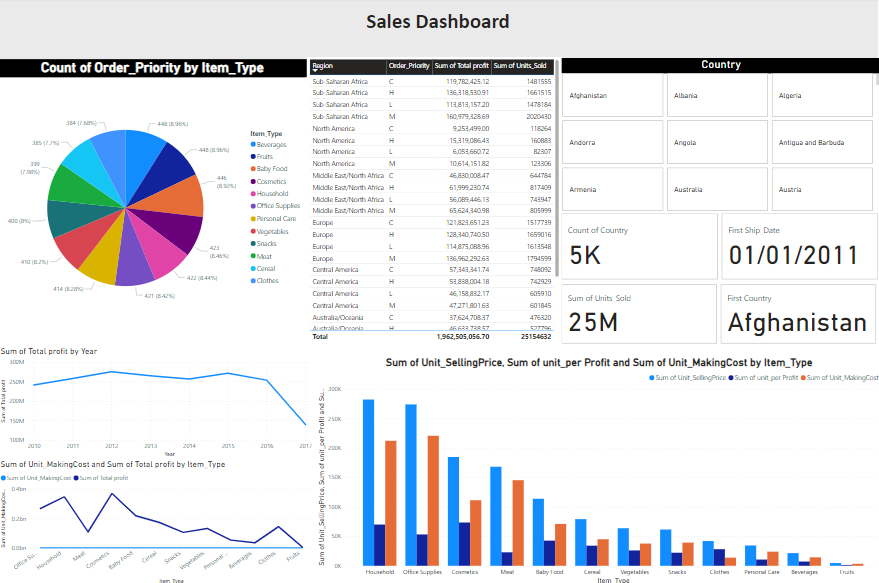

The dashboard page shown, as its layout file describes it:
{"tool":"powerbi","page":{"name":"Page 1","canvas":[1800,1200],"ordinal":0},"visuals":[{"type":"lineChart","fields":{"Category":["Sales_Data.Year"],"Y":["Sum(Sales_Data.Total profit)"]},"box":[0,710,643.3,230],"z":0},{"type":"cardVisual","fields":{"Data":["Sum(Sales_Data.Units_Sold)","Min(Sales_Data.Country)"]},"box":[1140,580,650,130],"z":1000},{"type":"cardVisual","fields":{"Data":["CountNonNull(Sales_Data.Country)","Min(Sales_Data.Ship_Date)"]},"box":[1141,435.3,654.9,144.4],"z":2000},{"type":"pieChart","fields":{"Y":["CountNonNull(Sales_Data.Order_Priority)"],"Category":["Sales_Data.Item_Type"]},"box":[0,126,628,574],"z":3000},{"type":"textbox","box":[0,0,1790,126.7],"z":4000},{"type":"advancedSlicerVisual","fields":{"Values":["Sales_Data.Country"]},"box":[1144,124,656,316],"z":5000},{"type":"lineChart","fields":{"Category":["Sales_Data.Item_Type"],"Y":["Sum(Sales_Data.Unit_MakingCost)","Sum(Sales_Data.Total profit)"]},"box":[0,940,643.3,260],"z":7000},{"type":"clusteredColumnChart","fields":{"Category":["Sales_Data.Item_Type"],"Y":["Sum(Sales_Data.Unit_SellingPrice)","Sum(Sales_Data.unit_per Profit)","Sum(Sales_Data.Unit_MakingCost)"]},"box":[644,730,1156,470],"z":8000},{"type":"tableEx","fields":{"Values":["Sales_Data.Region","Sales_Data.Order_Priority","Sum(Sales_Data.Total profit)","Sum(Sales_Data.Units_Sold)"]},"box":[628,122,518,584],"z":9000}]}

Visuals, with their boxes in screenshot pixels (x1, y1, x2, y2), scaled from the page's 1800x1200 canvas onto the 879x583 screenshot:
lineChart - Sales_Data.Year x Sum(Sales_Data.Total profit): 0:345:314:457
cardVisual - Sum(Sales_Data.Units_Sold) x Min(Sales_Data.Country): 557:282:874:345
cardVisual - CountNonNull(Sales_Data.Country) x Min(Sales_Data.Ship_Date): 557:211:877:282
pieChart - CountNonNull(Sales_Data.Order_Priority) x Sales_Data.Item_Type: 0:61:307:340
textbox: 0:0:874:62
advancedSlicerVisual - Sales_Data.Country: 559:60:878:214
lineChart - Sales_Data.Item_Type x Sum(Sales_Data.Unit_MakingCost): 0:457:314:582
clusteredColumnChart - Sales_Data.Item_Type x Sum(Sales_Data.Unit_SellingPrice): 314:355:878:582
tableEx - Sales_Data.Region x Sales_Data.Order_Priority: 307:59:560:343
